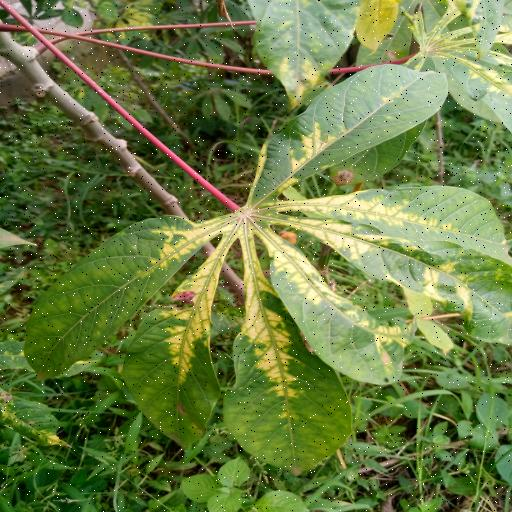Cassava_Mosaic: (24, 64, 507, 476)
